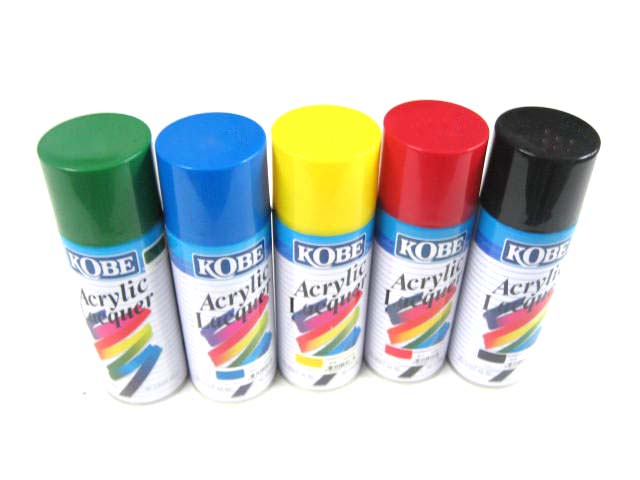Aerosol_cans: (35, 111, 194, 409), (446, 102, 603, 389), (154, 107, 281, 405), (367, 96, 492, 388), (270, 100, 383, 391)
